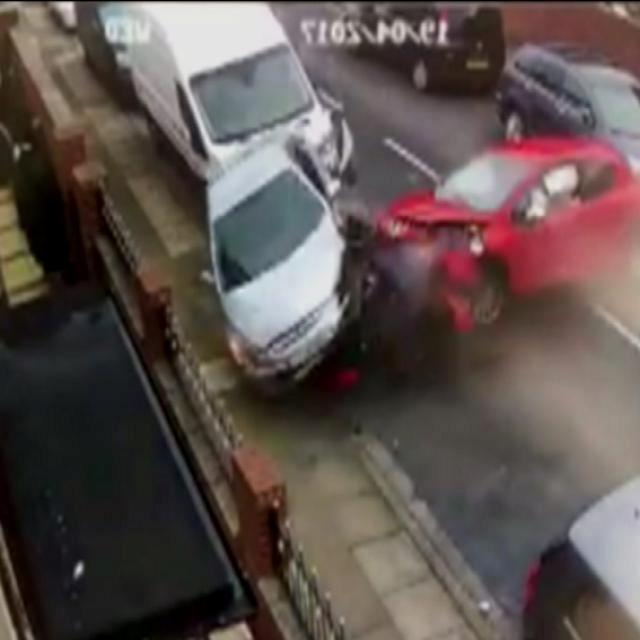accident: (205, 137, 640, 395)
